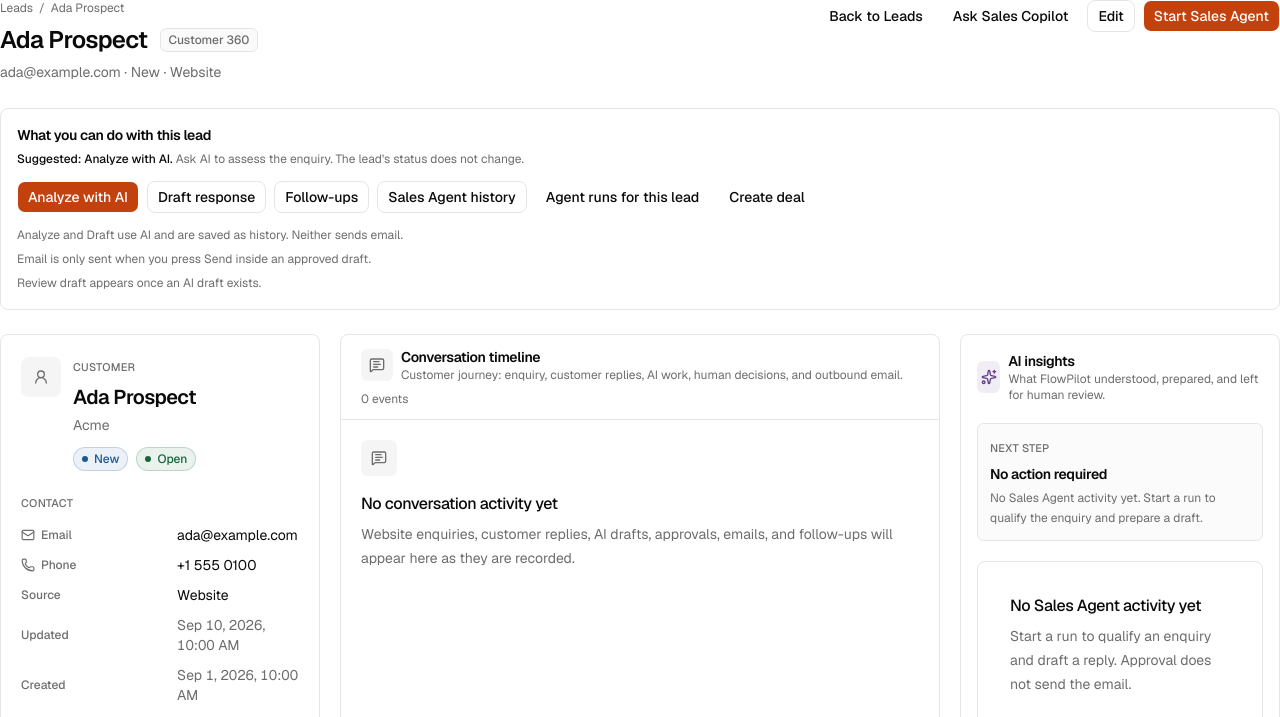
Lead workspace › keeps a 409 open-run error in the dialog
The image size is (1280, 717).
Click the button "Start Sales Agent" in the row of "Ask Sales Copilot".
click(1211, 16)  # box [1143,0,1279,32]
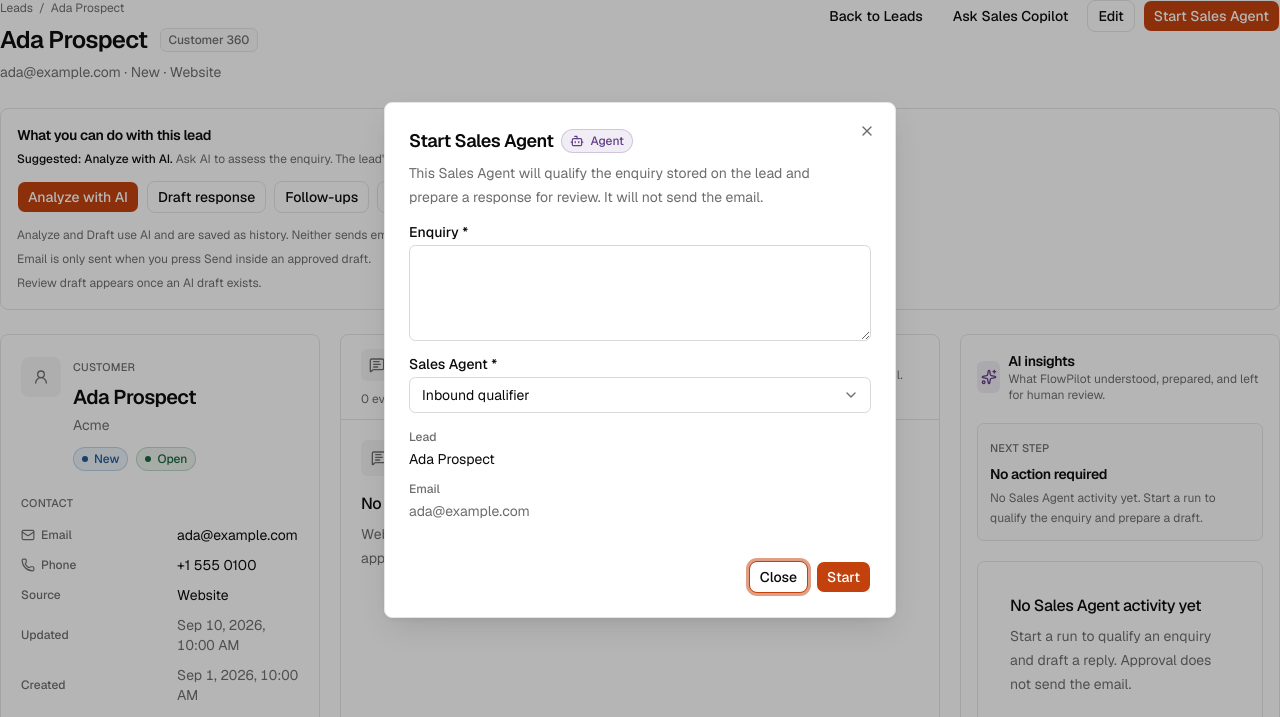
Type "Need a demo" into the text box labelled "Enquiry *".
click(640, 293); type("Need a demo")  # box [409,245,871,341]
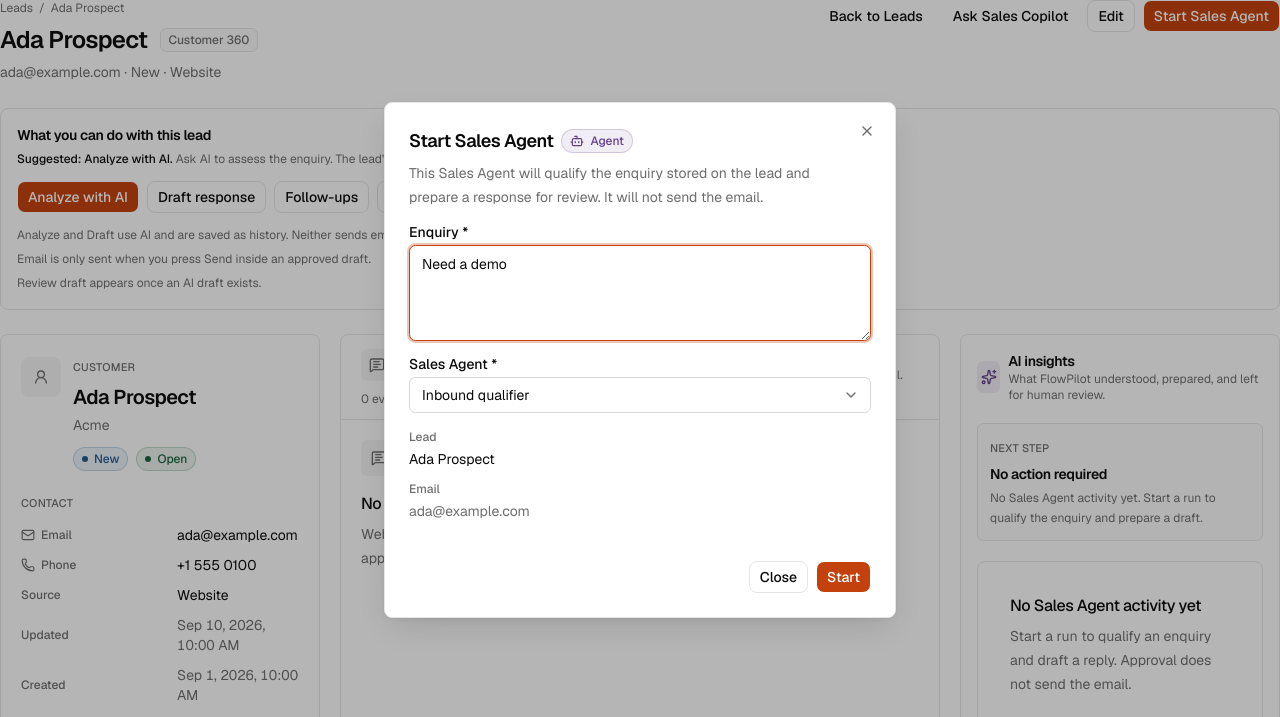
Click the button "Start".
click(844, 577)  # box [816,561,871,593]
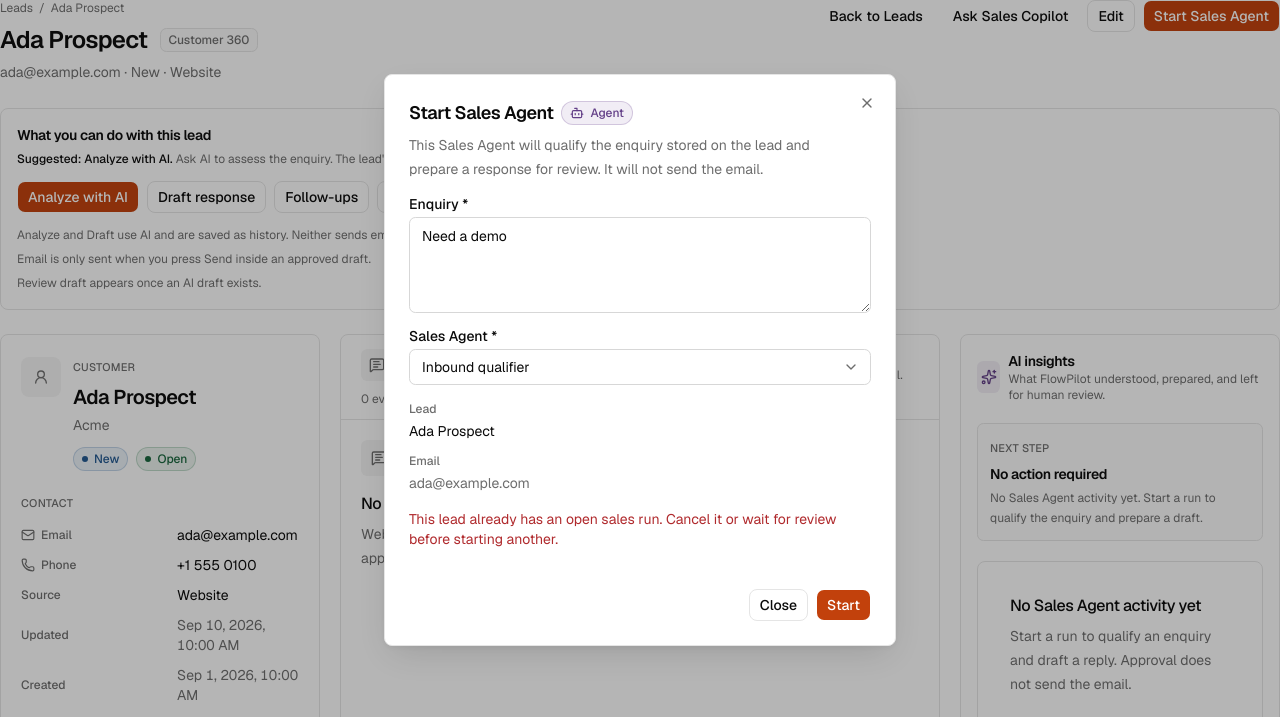
Now the heading "Start Sales Agent" is shown, box [409,99,553,127]
Now the text "This lead already has an open sales run" is shown, box [409,510,836,548]
